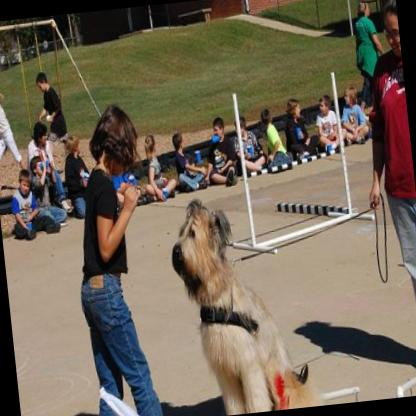briard: (164, 186, 312, 416)
